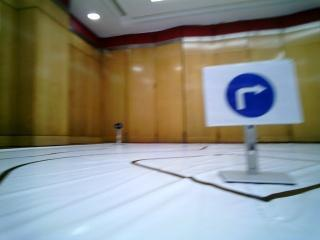right: (216, 68, 295, 119)
